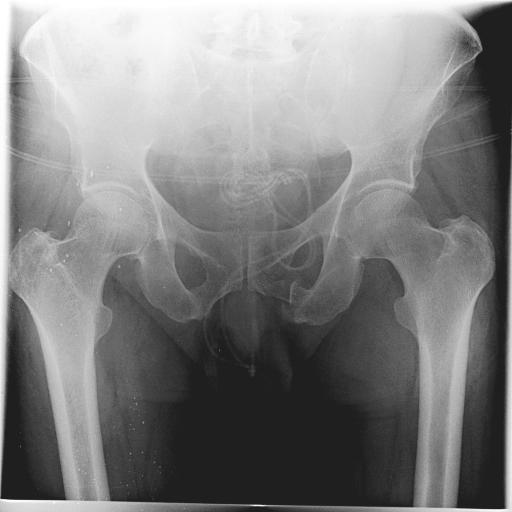normal: (350, 189, 496, 507), (9, 191, 149, 502)
